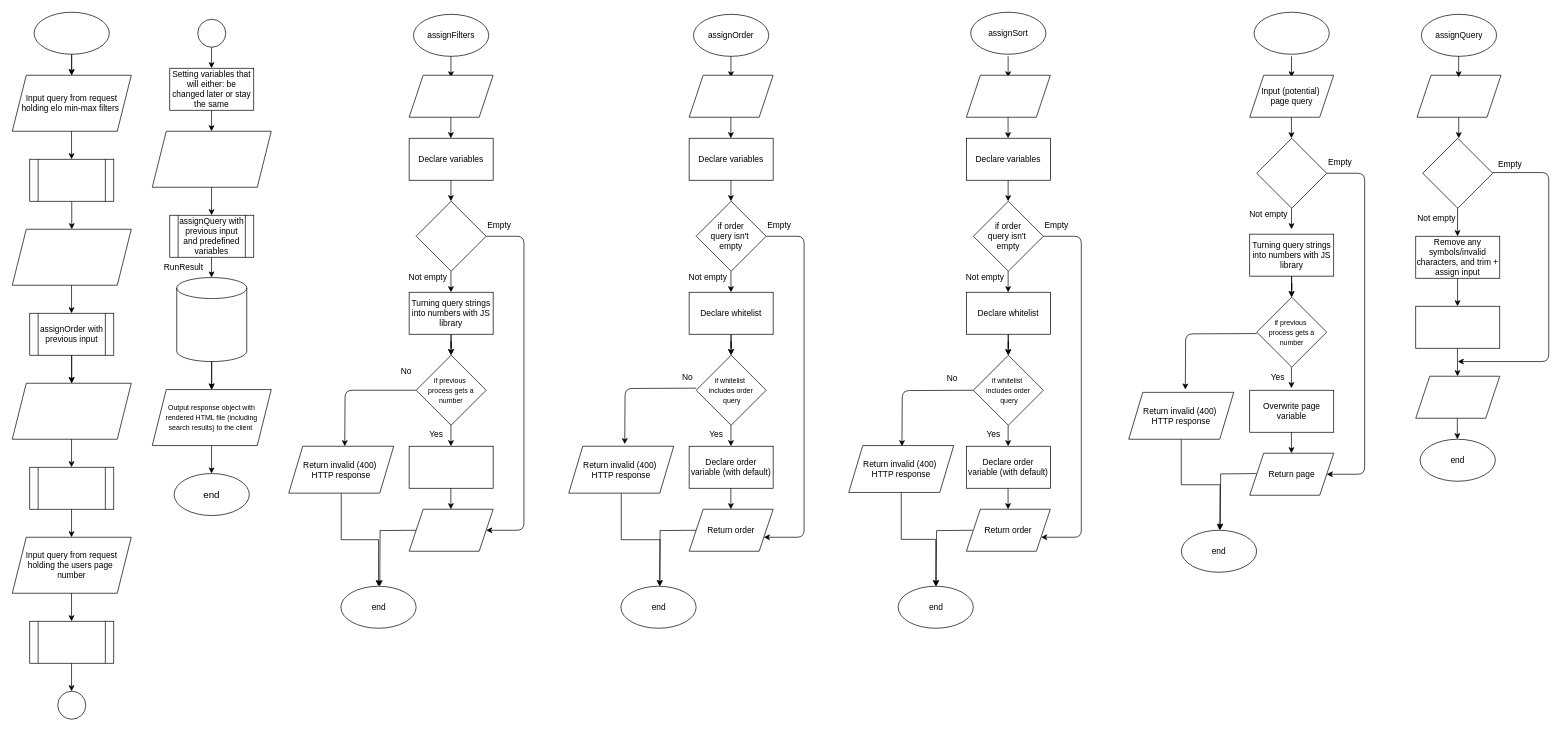
This 1567x732 diagram has some shape labels left out. Here are the shapes that lost their labels. From the top down, the centre of each, then its label:
point (71, 33): start
point (1291, 33): assignOffset
point (450, 96): Input (potential) filters
point (730, 96): Input (potential) display order
point (1008, 96): Input (potential) display sort
point (1458, 96): Input (potential) search query, and other variables
point (211, 159): Input query from request holding search query
point (1291, 173): if page query isn't empty
point (1457, 173): if previous input isn't empty
point (71, 180): assignFilters with previous inputs
point (450, 236): if elo filter query isn't empty
point (71, 257): Input query from request holding the order to display problems
point (211, 319): Interpolating variables into the query (empty variables are ignored by sqlite)
point (1457, 327): Reassign variables with options specific to FTS
point (71, 411): Input query from request holding the sort to display problems by
point (1457, 397): Return variables
point (450, 467): Redefine variable conditions (for "WHERE ...")
point (71, 488): assignSort with previous input
point (450, 530): Return conditions
point (71, 642): assignOffset with previous input
